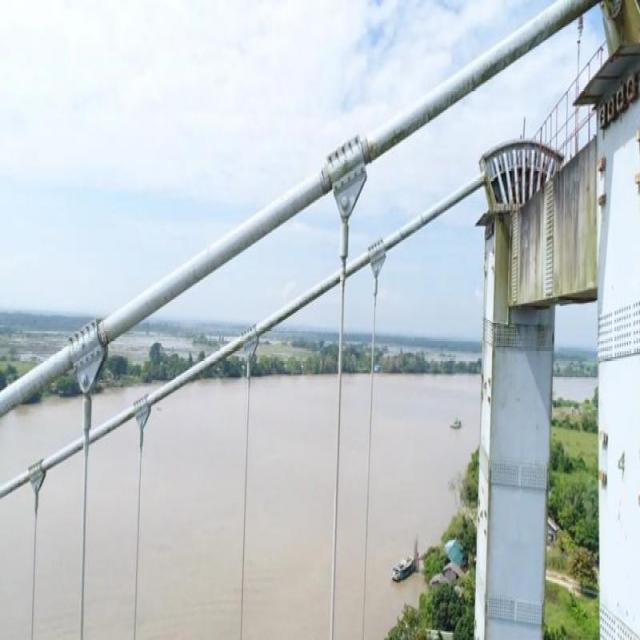Slippage: (361, 136, 371, 165), (322, 164, 332, 193), (98, 322, 109, 346)
